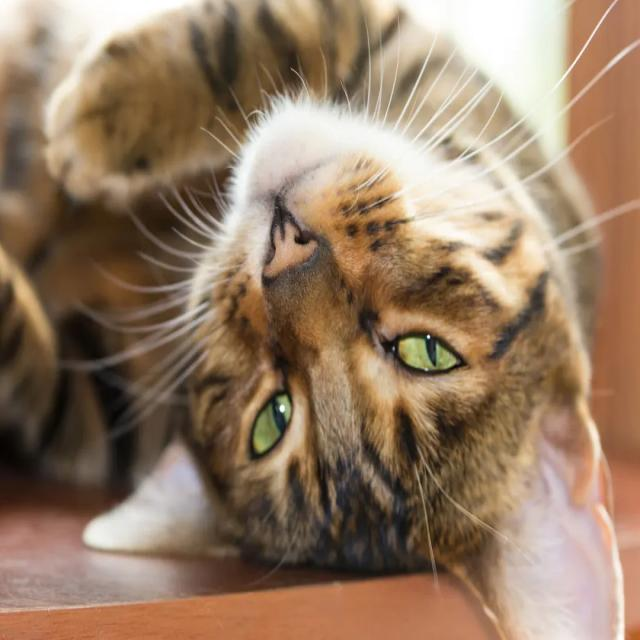Toyger: (0, 0, 632, 640)
